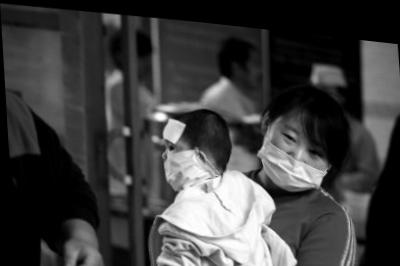NONE: (235, 48, 264, 86)
WRONG: (263, 112, 337, 189), (157, 129, 217, 191)
